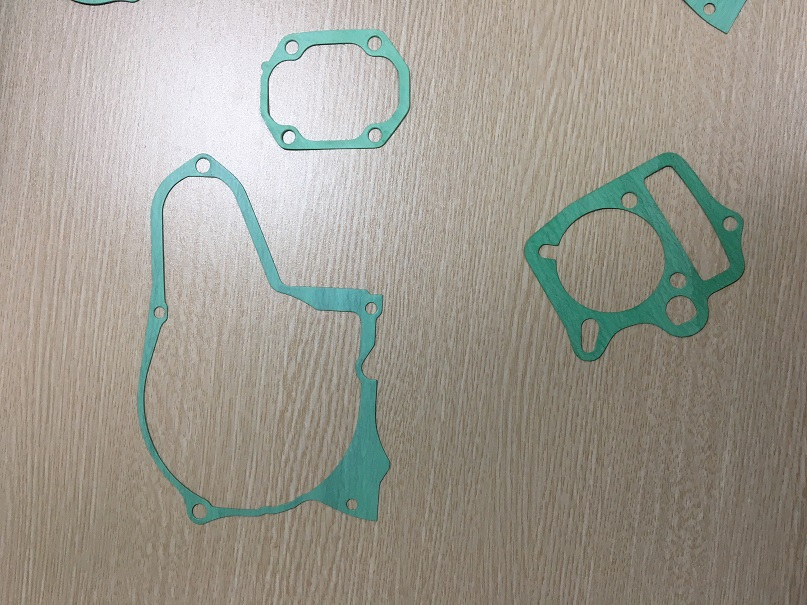type1: (127, 143, 395, 536)
type2: (254, 25, 414, 154)
type4: (514, 141, 750, 365)
